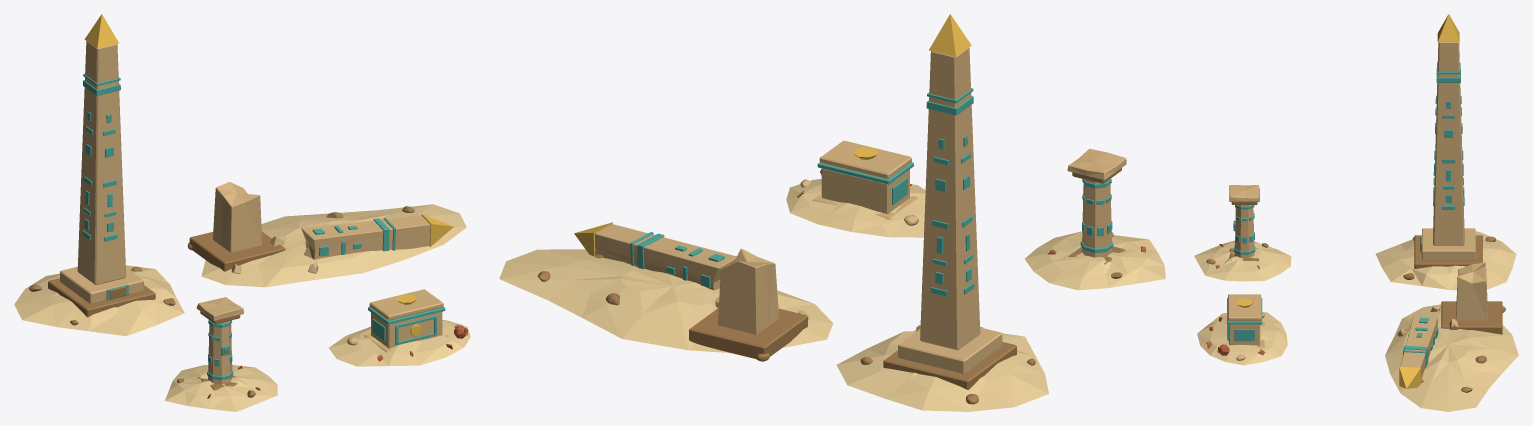
Rendered from desert-obelisk-set.glb.
3 views of the same model, side by side, from view 1: azimuth 30°, elevation 25°; view 2: azimuth 150°, elevation 25°; view 3: azimuth 270°, elevation 25° (orthographic). The views are drawn at different scales.
Visible parts, largest first — view 1: Obelisk_Tall_Shaft, Obelisk_Broken_Sand, Obelisk_Tall_Sand, Obelisk_Broken_Fallen, Pillar_Carved_Sand, Altar_Stone_Sand, Obelisk_Broken_Stump, Obelisk_Broken_Plinth, Obelisk_Tall_PlinthHigh, Lid, Obelisk_Tall_PlinthLow, Altar_Stone_Body (+5 smaller); view 2: Obelisk_Broken_Sand, Obelisk_Tall_Shaft, Obelisk_Tall_Sand, Pillar_Carved_Sand, Obelisk_Broken_Fallen, Obelisk_Broken_Stump, Altar_Stone_Sand, Obelisk_Broken_Plinth, Obelisk_Tall_PlinthHigh, Altar_Stone_Body, Lid, Obelisk_Tall_PlinthLow (+3 smaller); view 3: Obelisk_Broken_Sand, Obelisk_Tall_Shaft, Obelisk_Tall_Sand, Pillar_Carved_Sand, Altar_Stone_Sand, Obelisk_Broken_Stump, Obelisk_Broken_Fallen, Obelisk_Tall_PlinthHigh, Obelisk_Broken_Plinth, Pillar_Carved_Shaft, Lid, Obelisk_Tall_PlinthLow (+5 smaller).
Boxes of the visible parts, x1,y1,x2,y2 form: Obelisk_Tall_Shaft: (77, 41, 126, 284); Obelisk_Broken_Sand: (201, 204, 466, 287); Obelisk_Tall_Sand: (14, 265, 184, 336); Obelisk_Broken_Fallen: (301, 215, 430, 259); Pillar_Carved_Sand: (165, 365, 277, 411); Altar_Stone_Sand: (329, 320, 470, 366); Obelisk_Broken_Stump: (213, 182, 262, 252); Obelisk_Broken_Plinth: (189, 231, 285, 271); Obelisk_Tall_PlinthHigh: (60, 266, 143, 304); Lid: (369, 289, 443, 320); Obelisk_Tall_PlinthLow: (48, 278, 155, 317); Altar_Stone_Body: (371, 312, 442, 348); Obelisk_Broken_Sand: (499, 249, 833, 352); Obelisk_Tall_Shaft: (920, 47, 980, 350); Obelisk_Tall_Sand: (836, 330, 1048, 411); Pillar_Carved_Sand: (1025, 231, 1165, 290); Obelisk_Broken_Fallen: (594, 224, 736, 290); Obelisk_Broken_Stump: (718, 248, 779, 334); Altar_Stone_Sand: (786, 179, 925, 237); Obelisk_Broken_Plinth: (689, 308, 807, 359); Obelisk_Tall_PlinthHigh: (898, 327, 1002, 374); Altar_Stone_Body: (821, 168, 909, 213); Lid: (819, 140, 911, 179); Obelisk_Tall_PlinthLow: (883, 342, 1016, 389); Obelisk_Broken_Sand: (1385, 304, 1518, 411); Obelisk_Tall_Shaft: (1433, 42, 1464, 245); Obelisk_Tall_Sand: (1375, 231, 1516, 290); Pillar_Carved_Sand: (1194, 240, 1291, 281); Altar_Stone_Sand: (1197, 312, 1287, 365); Obelisk_Broken_Stump: (1456, 262, 1487, 320); Obelisk_Broken_Fallen: (1400, 316, 1438, 378); Obelisk_Tall_PlinthHigh: (1422, 228, 1475, 260); Obelisk_Broken_Plinth: (1441, 301, 1502, 334); Pillar_Carved_Shaft: (1234, 205, 1254, 258); Lid: (1228, 294, 1261, 321); Obelisk_Tall_PlinthLow: (1414, 235, 1482, 268).
Size of the model in its own units: 46.98 by 29.4 by 35.02.
